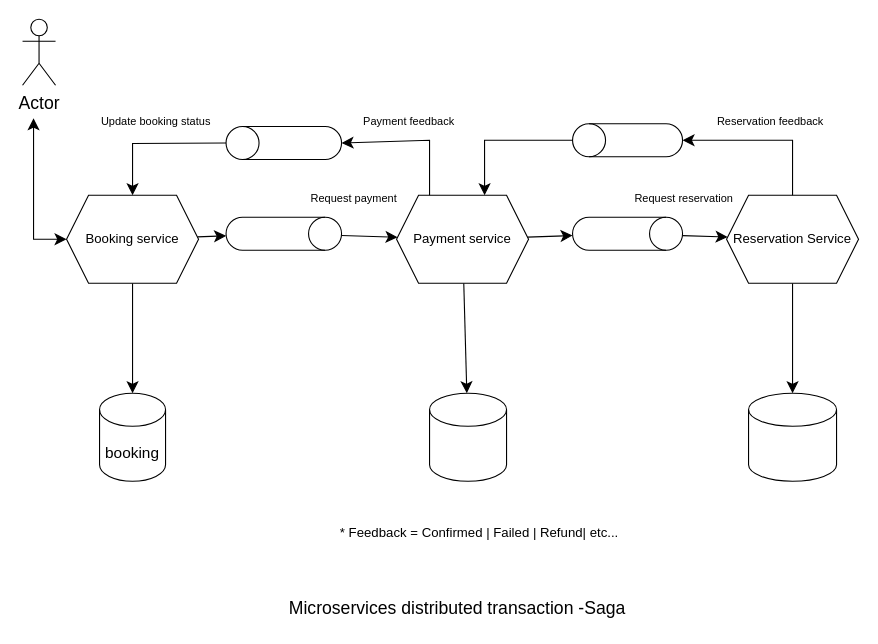
Some shapes in this 878 by 644 pixel diagram are drawn without their labels. Each missing label, with the centre of its shape:
"payment" goes at point 467,436.
"reservation" goes at point 792,436.
